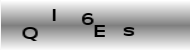6: (81, 11, 94, 25)
E: (93, 23, 106, 37)
Q: (20, 26, 40, 42)
l: (50, 7, 57, 22)
s: (122, 26, 135, 36)
